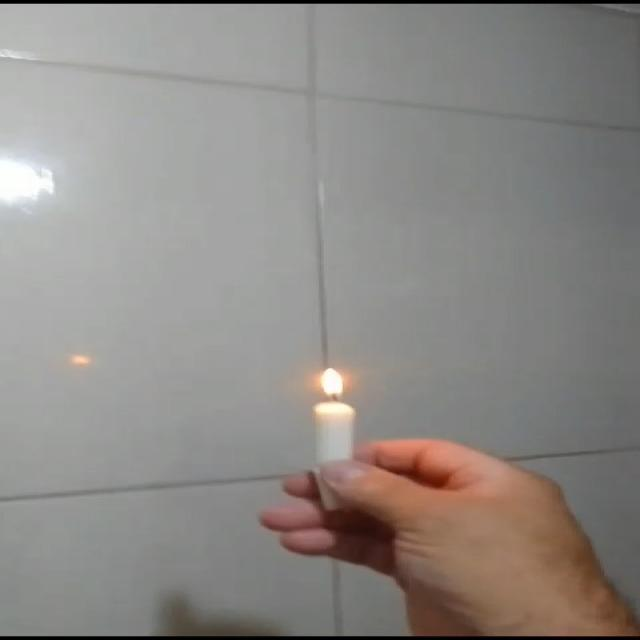fogo-ypXI: (311, 365, 353, 402)
